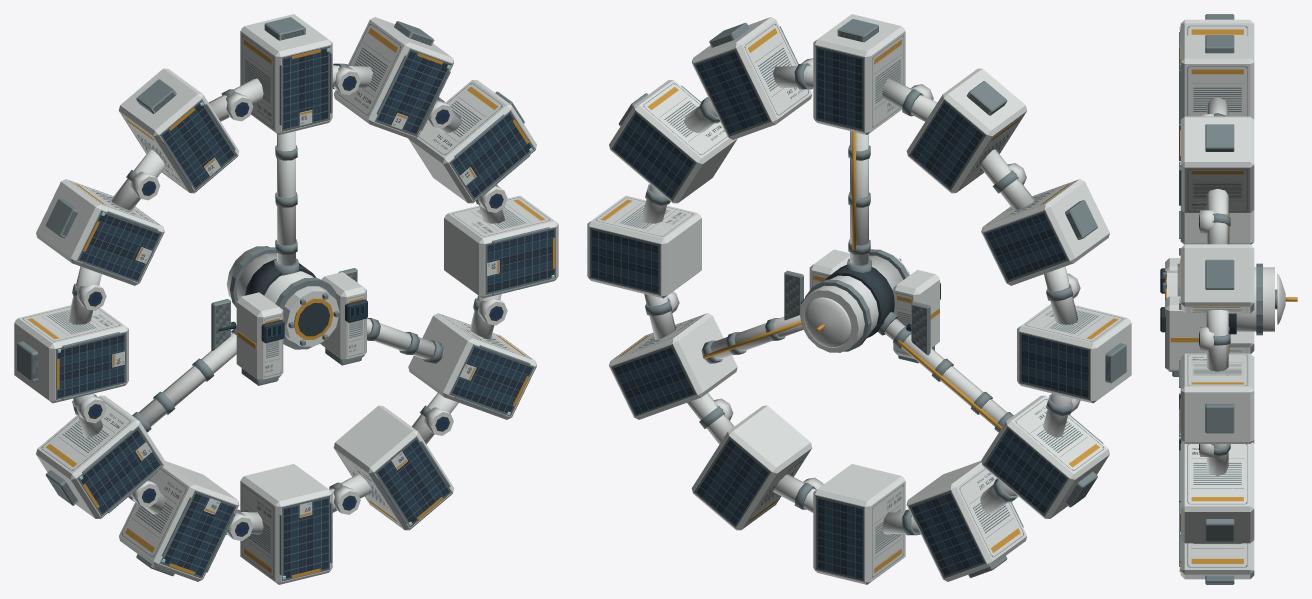
Rendered from Space_Station.glb.
3 renders of one model, left to right at view 1: azimuth 30°, elevation 25°; view 2: azimuth 150°, elevation 25°; view 3: azimuth 270°, elevation 25°, orthographic. The views are drawn at different scales.
Visible parts, largest first — view 1: Habitat_Ring, Station_Core; view 2: Habitat_Ring, Station_Core; view 3: Habitat_Ring, Station_Core.
Boxes of the visible parts, x1,y1,x2,y2 form: Habitat_Ring: (14, 14, 558, 584); Station_Core: (211, 246, 367, 385); Habitat_Ring: (587, 14, 1131, 584); Station_Core: (784, 249, 940, 363); Habitat_Ring: (1179, 14, 1254, 584); Station_Core: (1160, 258, 1297, 376).
Bounding box in the file's own units: 12.76 × 12.76 × 3.07.
Materials: 1 (1 with a texture image).
